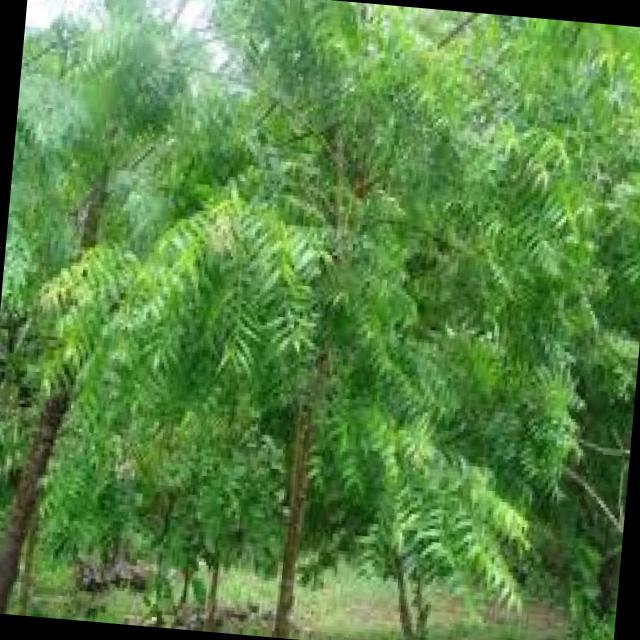Medicinal-Neem: (112, 0, 588, 502)
